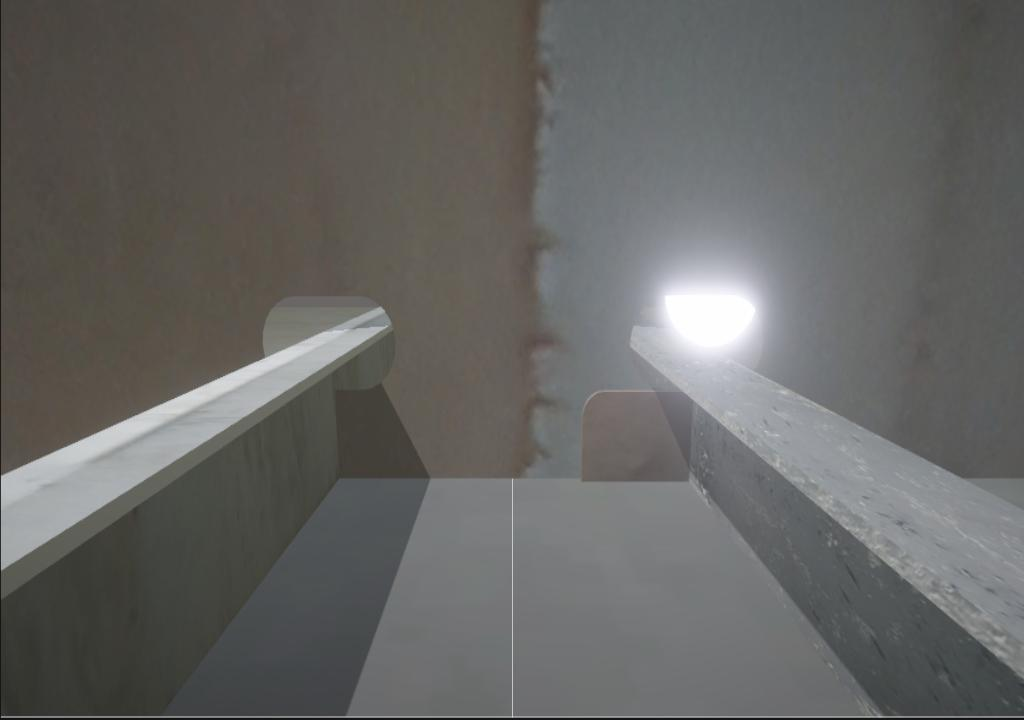fillet_yong_jeop_jang: (336, 471, 583, 488)
longi_yong_jeop_jang: (327, 380, 353, 489)
plate_CP05: (577, 390, 691, 481)
